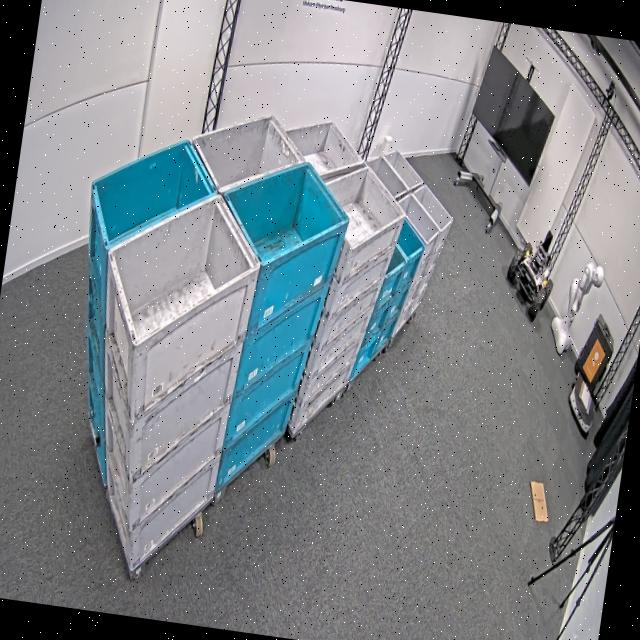Roll3G: (310, 157, 412, 259), (276, 112, 370, 184)
Roll4G: (94, 180, 271, 364), (182, 102, 314, 206)
Roll8G: (390, 178, 458, 250), (357, 144, 428, 206)
RollB4: (79, 124, 227, 268), (209, 147, 360, 281)
RollB8: (382, 213, 430, 285)
